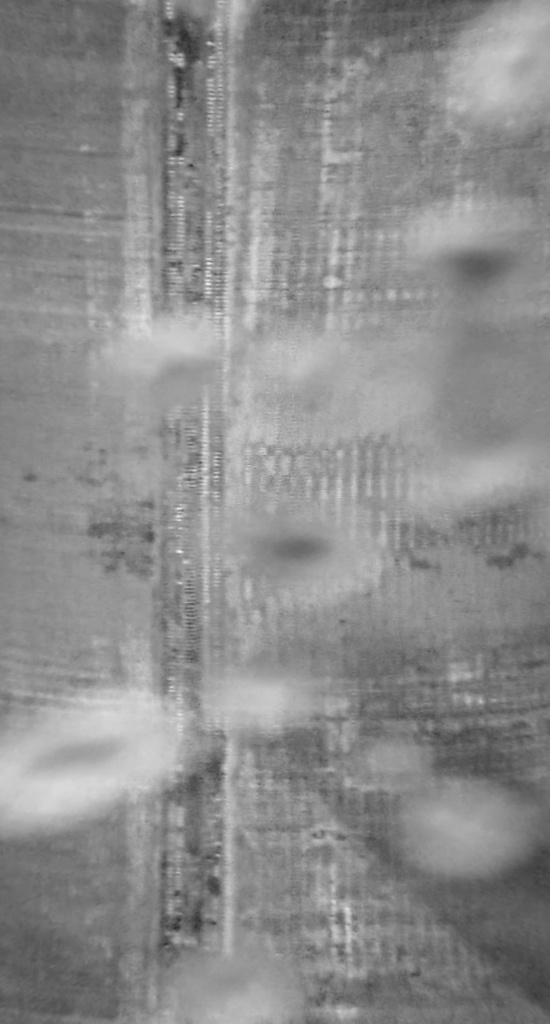splice: (132, 1, 229, 1022)
